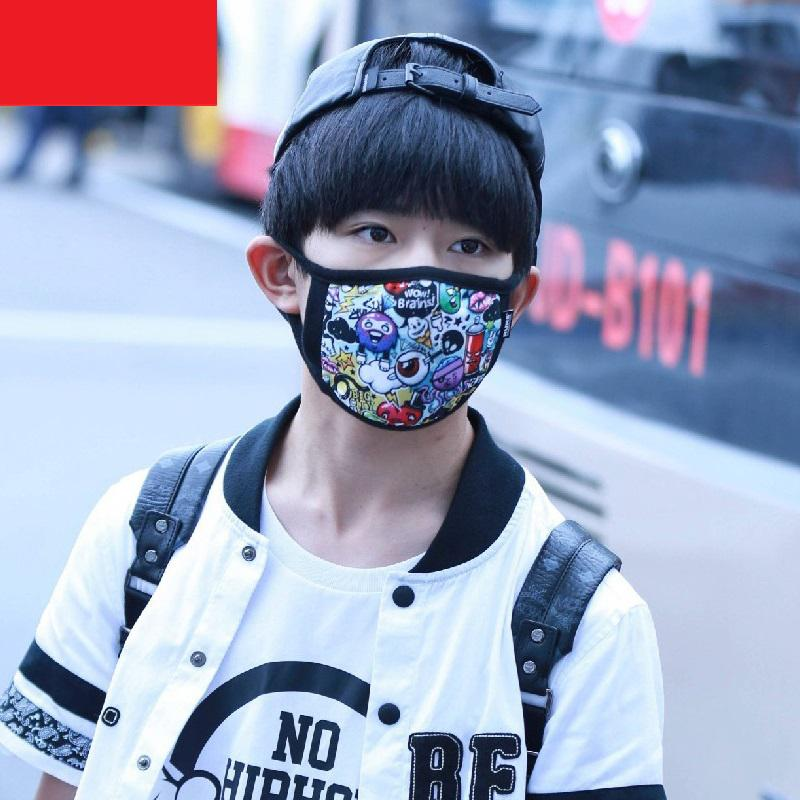OK: (298, 187, 528, 417)
